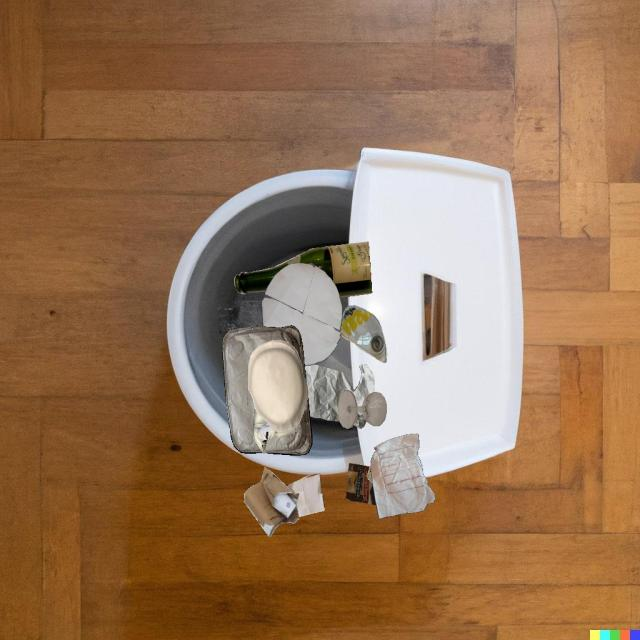cardboard: (244, 467, 299, 537), (346, 463, 376, 505)
glass: (235, 242, 372, 298), (340, 305, 387, 363), (338, 390, 387, 429), (367, 466, 372, 483)
metal: (222, 325, 306, 453), (265, 397, 312, 456)
paper: (261, 263, 342, 366), (370, 433, 435, 519), (248, 340, 308, 433), (305, 364, 374, 421), (253, 407, 298, 454), (287, 473, 325, 516)
